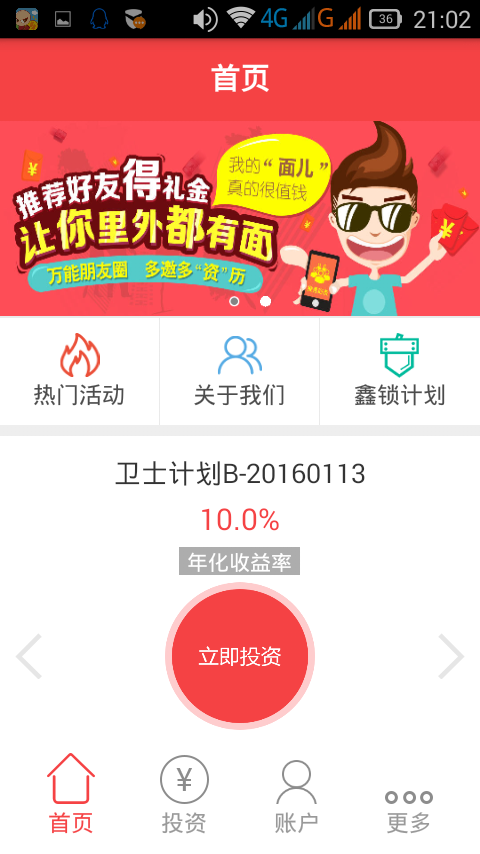textview: (101, 452, 377, 535)
